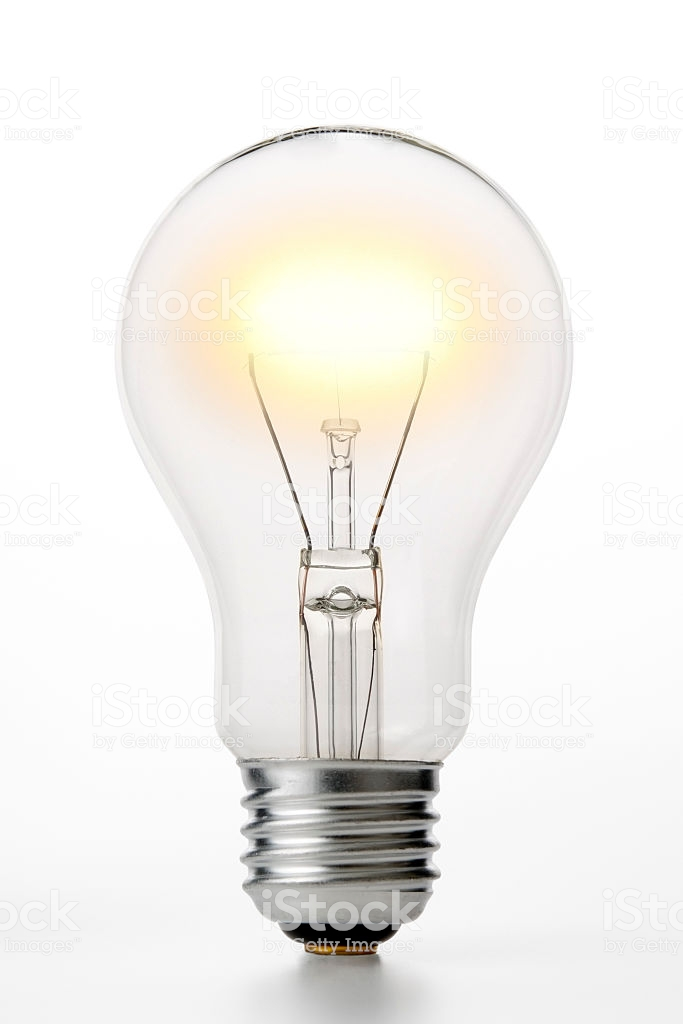Nonrec_Glass: (96, 96, 591, 983)
